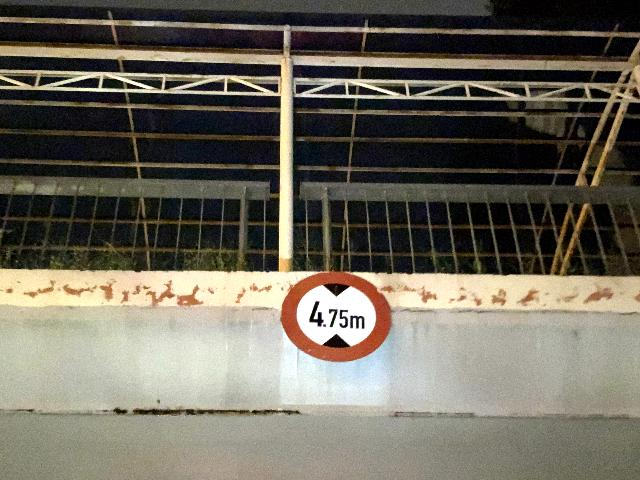han-che-chieu-cao: (281, 271, 390, 362)
